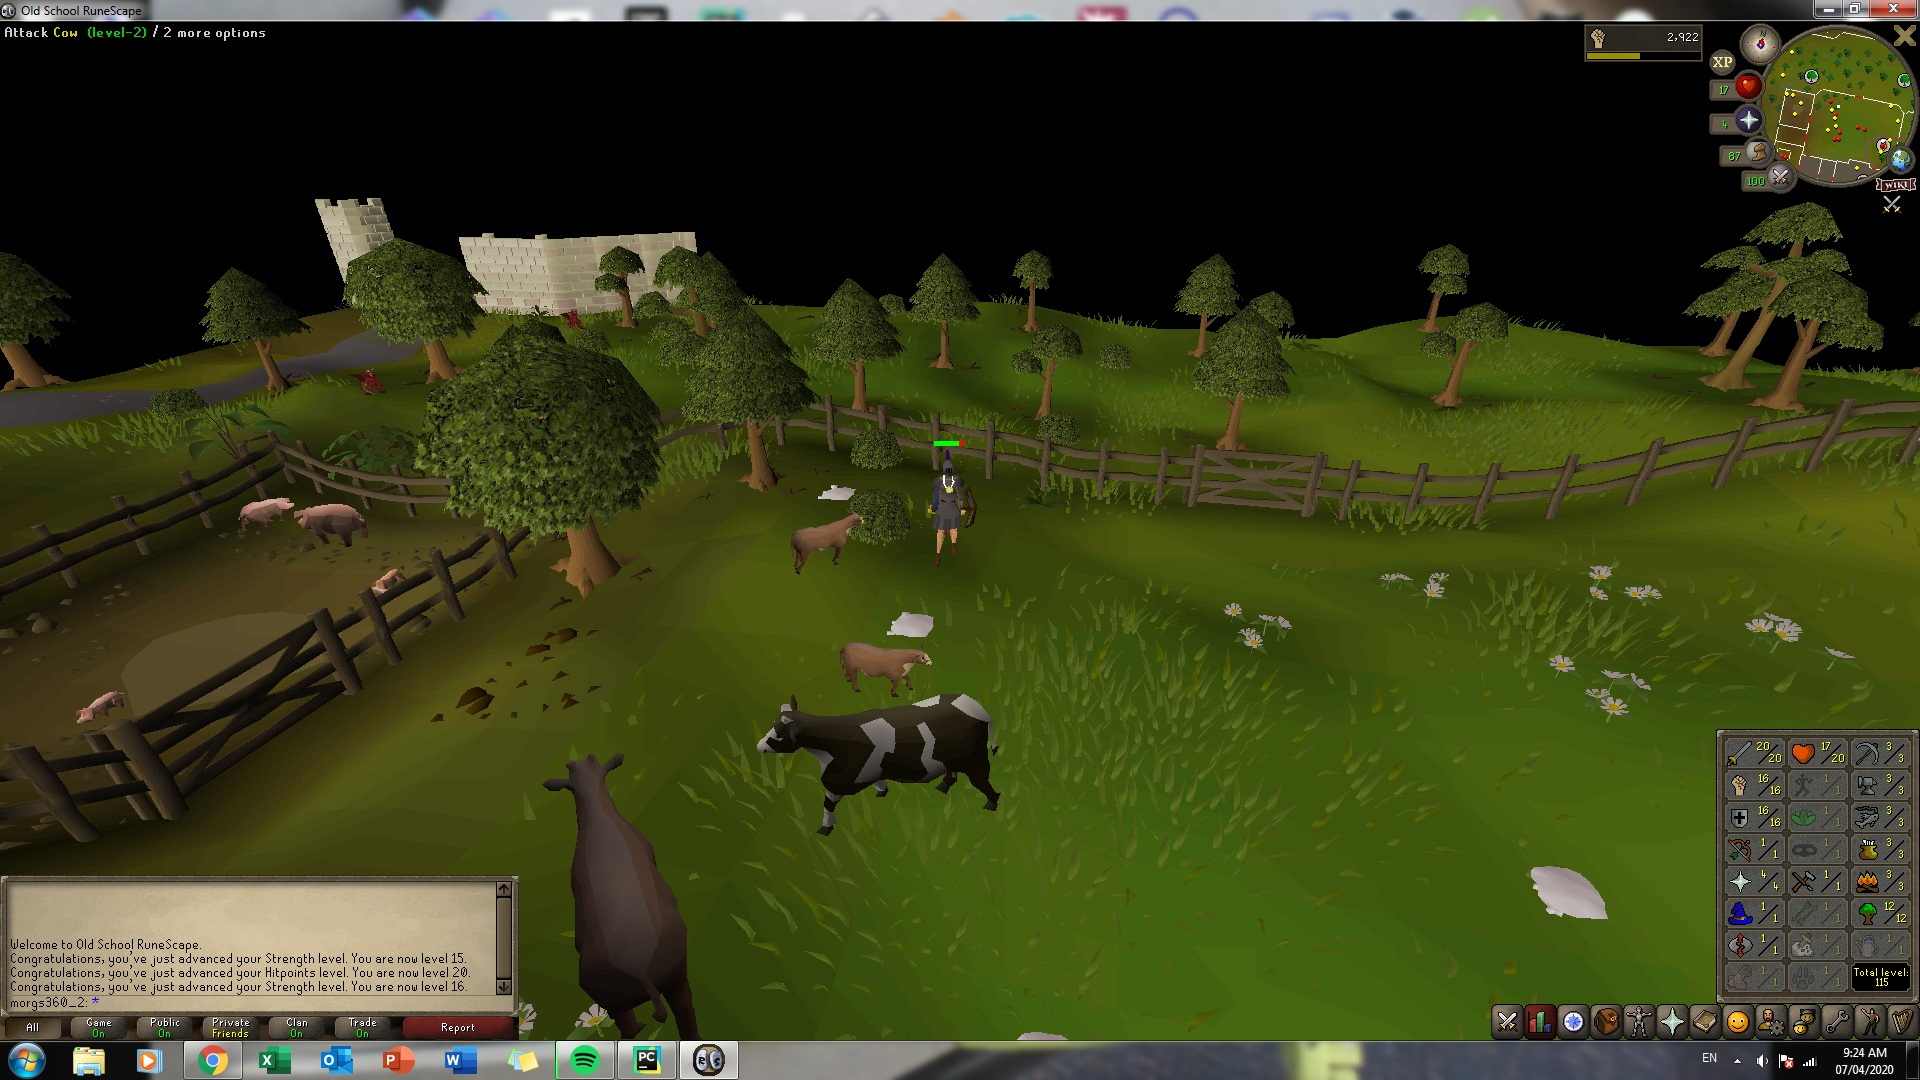cow: (525, 742, 712, 1039), (753, 684, 1004, 847)
